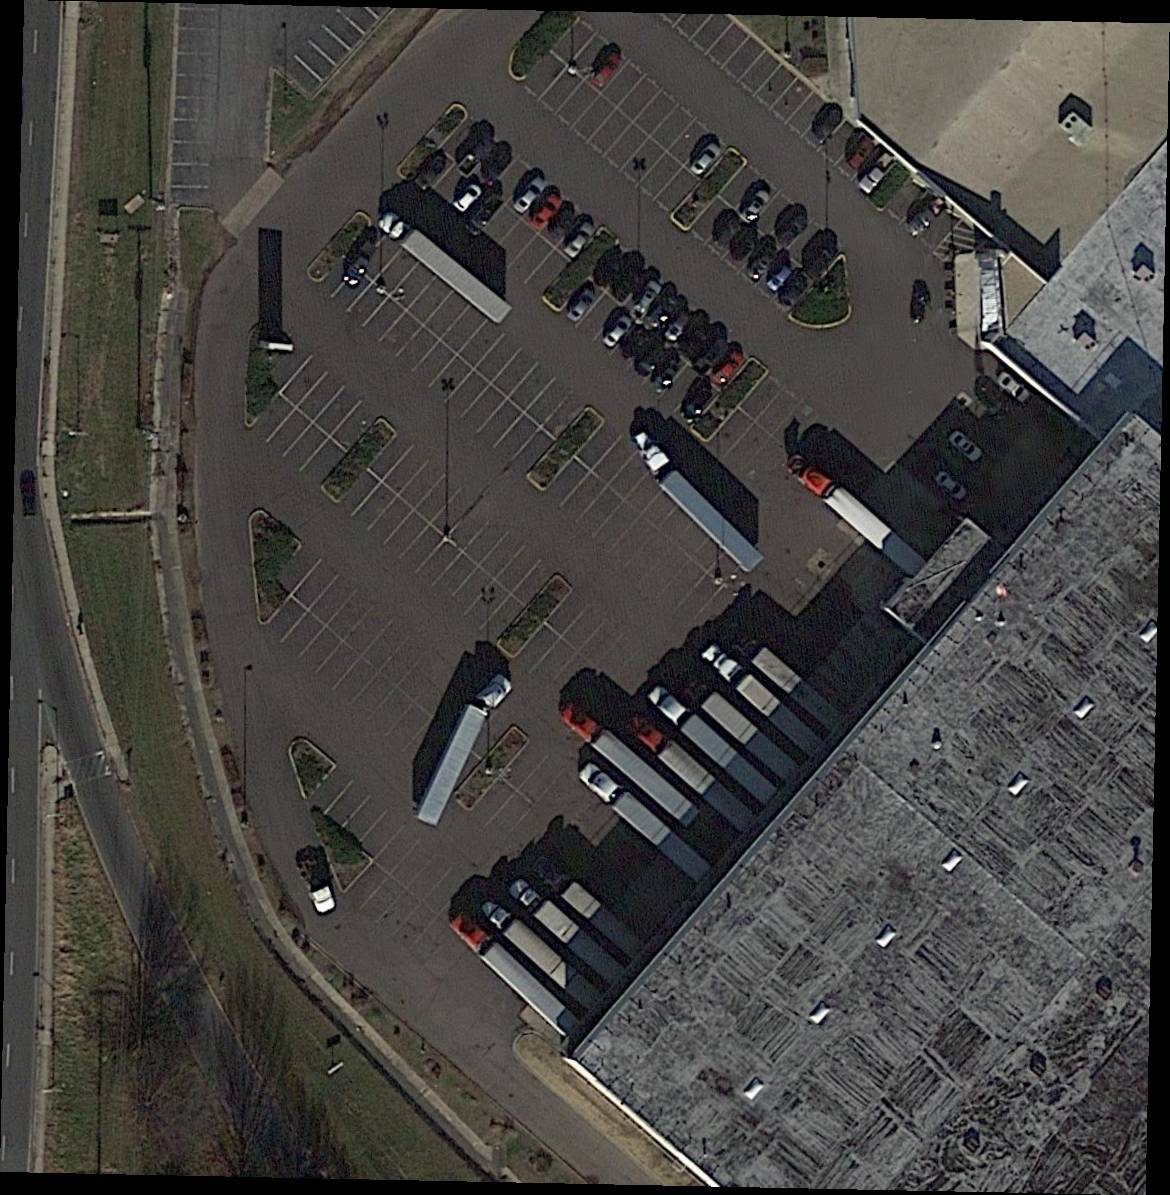large vehicle: (559, 704, 701, 830), (785, 454, 928, 579), (579, 761, 715, 885), (450, 913, 581, 1039), (626, 713, 757, 835), (647, 686, 778, 808), (377, 209, 514, 325), (702, 643, 824, 757), (481, 900, 604, 1013), (509, 878, 626, 986), (531, 858, 648, 960), (688, 679, 800, 783), (736, 637, 846, 733)
small vehicle: (462, 190, 508, 238), (672, 380, 718, 429), (901, 195, 950, 238), (339, 240, 379, 292), (585, 46, 628, 94), (455, 134, 499, 178), (508, 171, 551, 216), (605, 258, 645, 305), (643, 290, 682, 335), (856, 150, 895, 193), (477, 147, 517, 186), (808, 104, 846, 146), (525, 191, 562, 234), (628, 277, 664, 320), (648, 355, 687, 395), (710, 348, 749, 389), (994, 368, 1034, 406), (802, 242, 840, 283), (686, 139, 724, 178), (930, 467, 970, 505), (774, 212, 814, 249), (774, 272, 812, 310), (542, 206, 577, 247), (562, 220, 597, 260), (562, 286, 599, 324), (600, 313, 635, 352), (634, 341, 669, 380), (697, 337, 731, 377), (412, 154, 449, 191), (744, 247, 781, 282), (945, 428, 982, 462), (739, 186, 774, 224), (450, 180, 484, 216), (845, 137, 880, 171), (710, 215, 745, 249), (664, 310, 695, 344), (730, 229, 762, 262), (764, 262, 796, 294), (909, 287, 929, 324), (21, 482, 40, 518)
